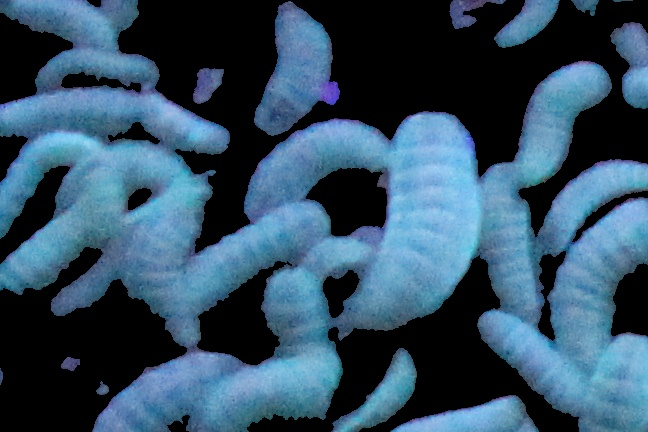larvae: (353, 109, 474, 335), (553, 201, 648, 377), (1, 168, 124, 300), (170, 209, 324, 311), (126, 196, 218, 357), (241, 121, 389, 219), (83, 346, 251, 432), (199, 335, 344, 432), (510, 64, 610, 188), (470, 312, 589, 416), (536, 156, 648, 262), (1, 128, 89, 257), (253, 2, 332, 136), (484, 162, 543, 328), (51, 146, 197, 211), (320, 349, 416, 432), (46, 245, 144, 326), (1, 93, 146, 140), (584, 327, 647, 432), (1, 1, 117, 55), (141, 93, 231, 154), (24, 50, 160, 90), (491, 1, 563, 49), (614, 19, 648, 111), (1, 323, 12, 404)
